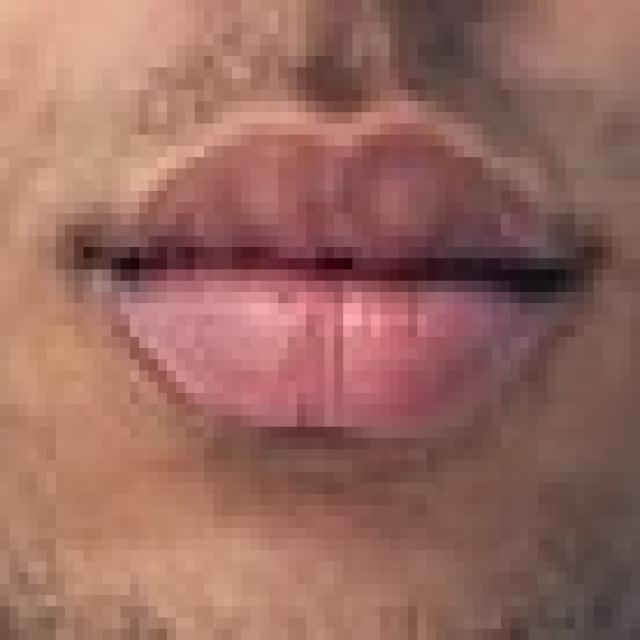closed-mouth: (56, 90, 603, 438)
